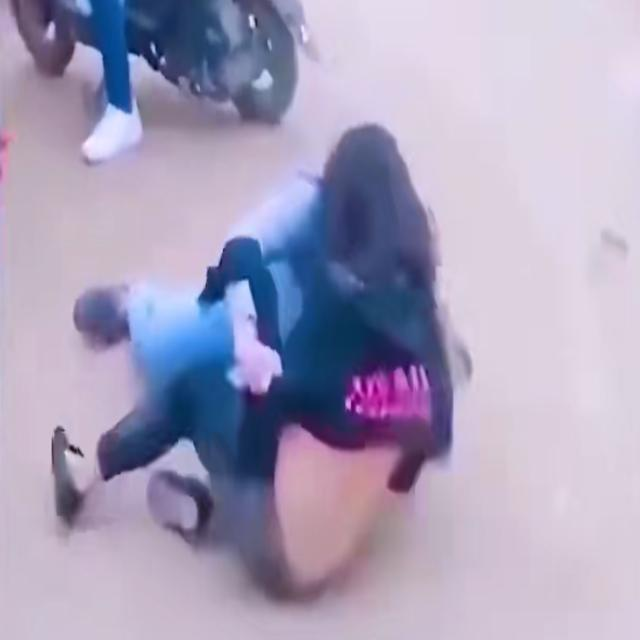fight: (209, 119, 455, 529)
